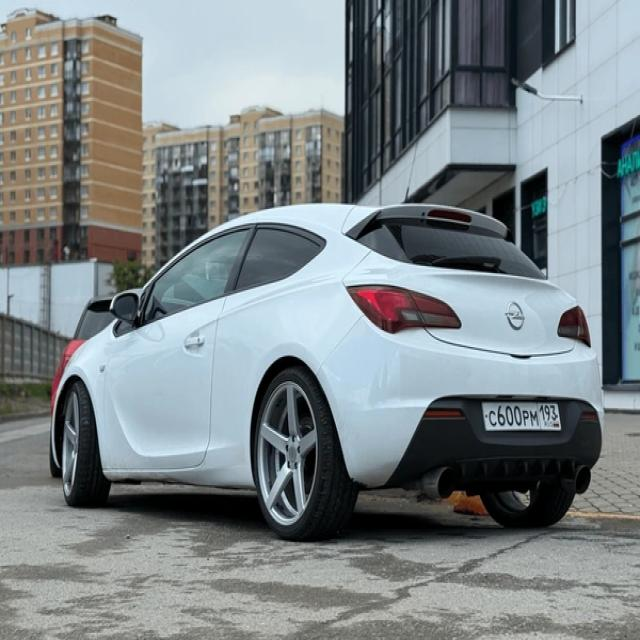opel: (505, 300, 527, 330)
